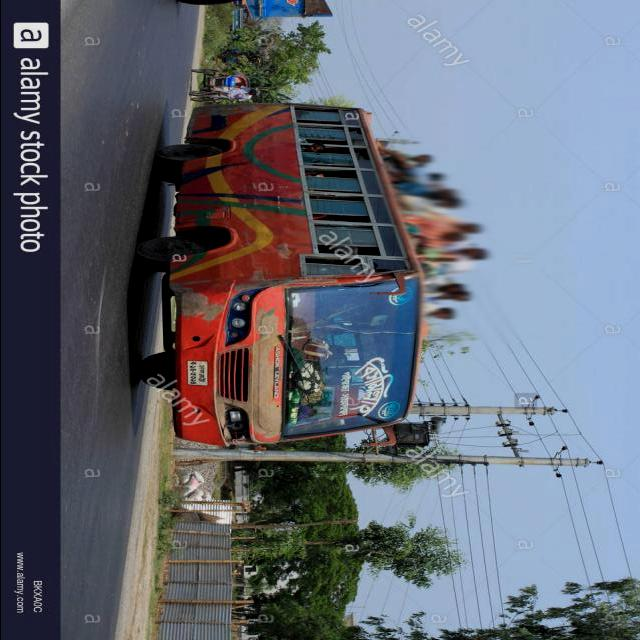bus: (135, 101, 430, 448)
